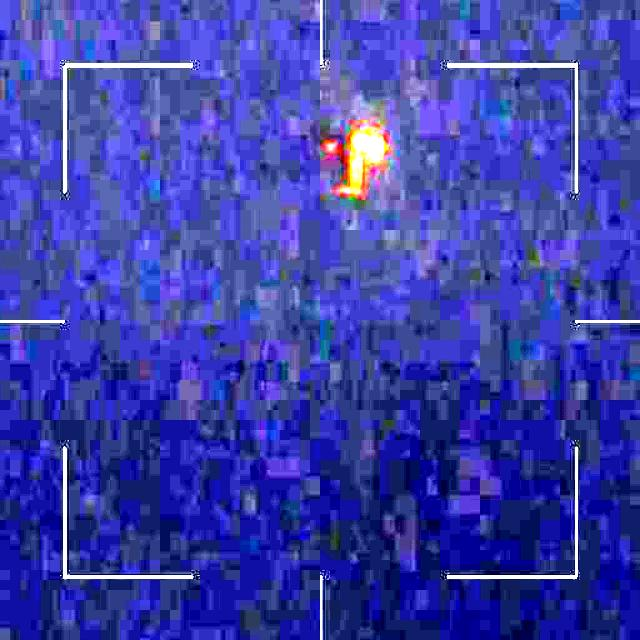bird: (315, 120, 389, 191)
